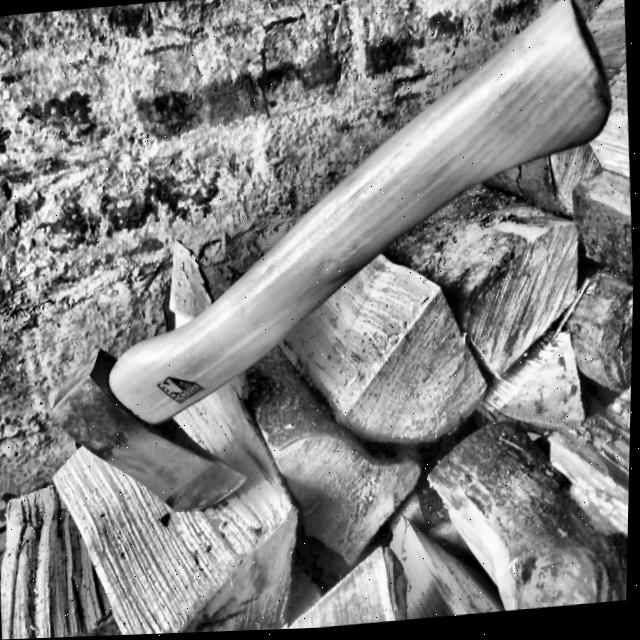kapak: (36, 0, 625, 517)
